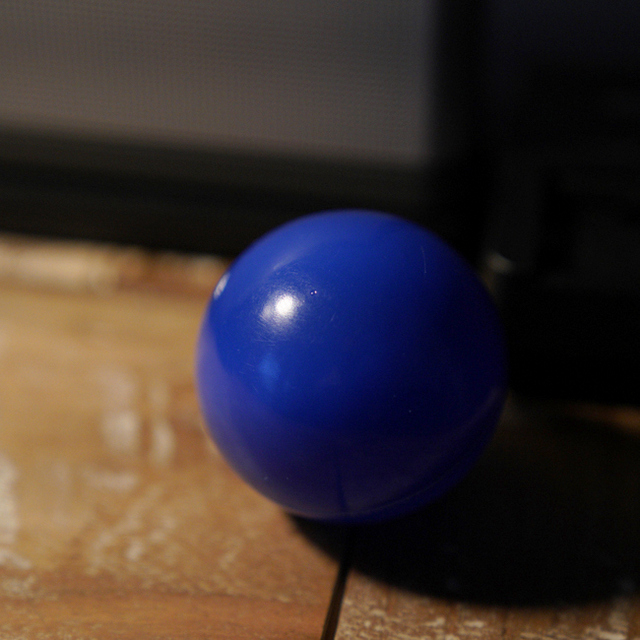Ball: (200, 214, 503, 517)
